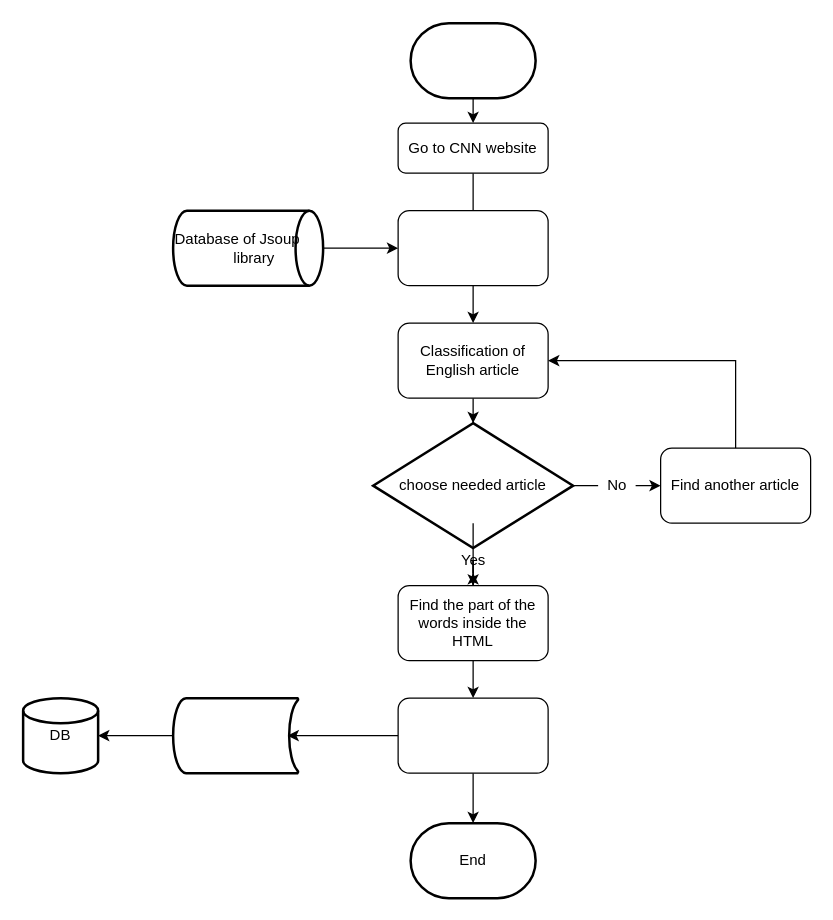
This 833x920 diagram has some shape labels left out. Each missing label, with the centre of its shape:
"English article data" belongs at [235,735].
"Making the .txt file to store the words of article" belongs at [472,735].
"Start" belongs at [472,60].
"Using java jsoup to finding the URL of English article website" belongs at [472,247].
